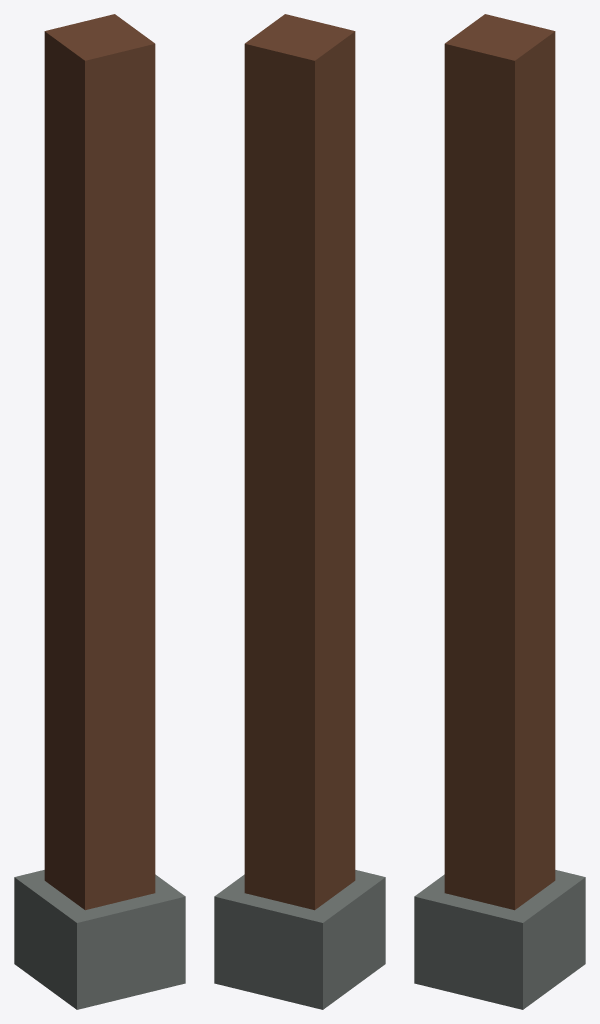
File: wk_facade_corner_v01.glb
3 renders of one model, left to right at view 1: azimuth 30°, elevation 25°; view 2: azimuth 150°, elevation 25°; view 3: azimuth 330°, elevation 25°, orthographic.
Parts seen in each view (by area): view 1: GEO_CornerPost, GEO_CornerFoot; view 2: GEO_CornerPost, GEO_CornerFoot; view 3: GEO_CornerPost, GEO_CornerFoot.
Boxes of the visible parts, left/top/right/bottom form: GEO_CornerPost: left=44, top=14, right=155, bottom=910; GEO_CornerFoot: left=14, top=870, right=185, bottom=1009; GEO_CornerPost: left=244, top=14, right=355, bottom=910; GEO_CornerFoot: left=214, top=870, right=385, bottom=1009; GEO_CornerPost: left=444, top=14, right=555, bottom=910; GEO_CornerFoot: left=414, top=870, right=585, bottom=1009.
Bounding box in the file's own units: 0.34 × 2.8 × 0.34.
